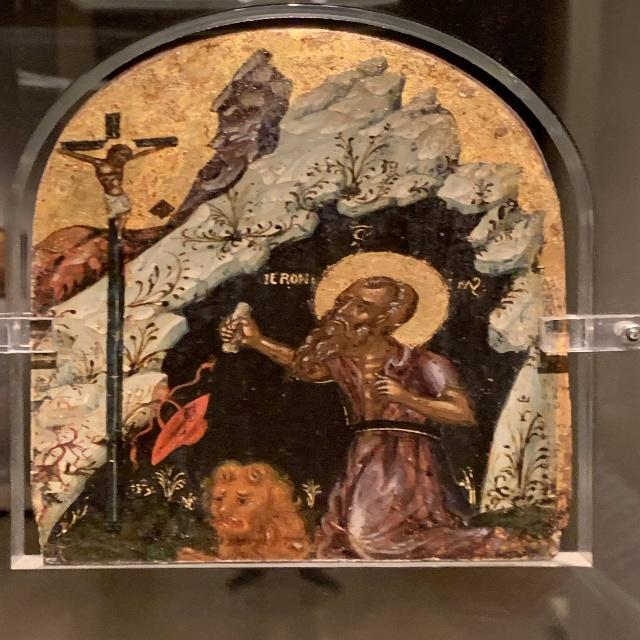aura: (305, 248, 453, 349), (97, 139, 139, 163)
christ_crucifixion: (59, 109, 178, 323)
saint: (216, 232, 514, 549)
